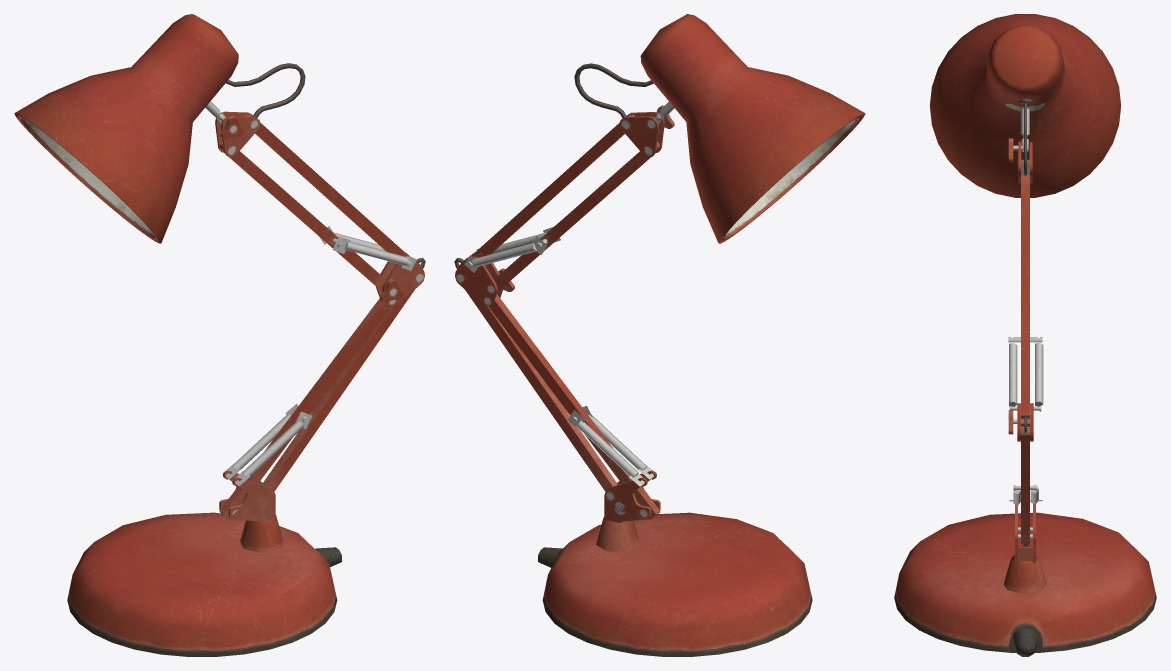
The model's file is SM_Desk_Lamp_01a.fbx.
The picture shows the model from 3 angles, left to right: view 1: azimuth 30°, elevation 25°; view 2: azimuth 150°, elevation 25°; view 3: azimuth 270°, elevation 25°; orthographic projection. The views are drawn at different scales.
Visible parts, largest first — view 1: SM_Desk_Lamp_01a_LOD0; view 2: SM_Desk_Lamp_01a_LOD0; view 3: SM_Desk_Lamp_01a_LOD0.
Part boxes in pixels (box(x1,y1,x2,y2)): SM_Desk_Lamp_01a_LOD0: box(14, 14, 425, 656); SM_Desk_Lamp_01a_LOD0: box(454, 14, 865, 656); SM_Desk_Lamp_01a_LOD0: box(894, 14, 1156, 656).
Size of the model in its own units: 40.99 by 24.46 by 58.36.
1 material, 1 textured.
